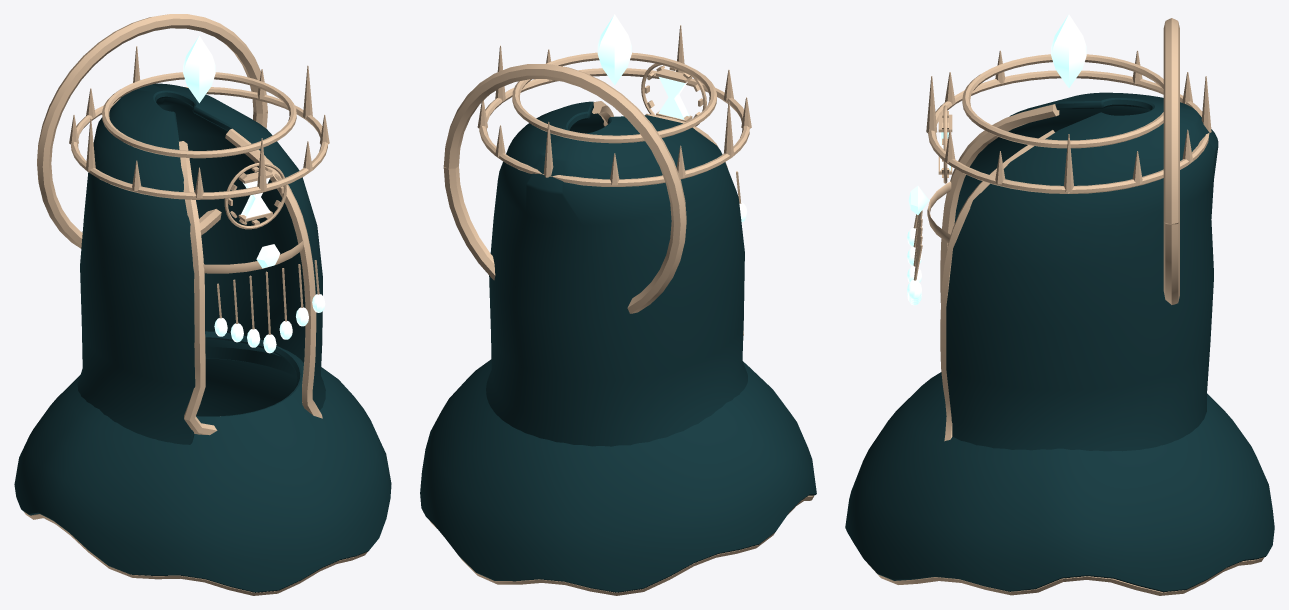
File: asc_hourglass_sage_helm.glb
The picture shows the model from 3 angles, left to right: view 1: azimuth 30°, elevation 25°; view 2: azimuth 150°, elevation 25°; view 3: azimuth 270°, elevation 25°; orthographic projection. The views are drawn at different scales.
Visible parts, largest first — view 1: asc_hourglass_sage_helm; view 2: asc_hourglass_sage_helm; view 3: asc_hourglass_sage_helm.
Part boxes in pixels (left/top/right/bottom): asc_hourglass_sage_helm: left=14, top=14, right=391, bottom=595; asc_hourglass_sage_helm: left=420, top=14, right=816, bottom=595; asc_hourglass_sage_helm: left=845, top=14, right=1274, bottom=595.
Bounding box in the file's own units: 0.6031 × 0.8468 × 0.6263.
